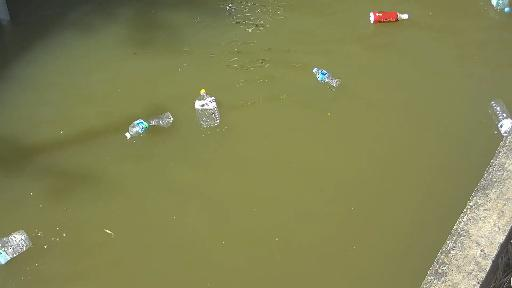plastic: (358, 0, 446, 36), (465, 82, 512, 147), (113, 109, 189, 142), (301, 58, 355, 91), (195, 77, 221, 139), (476, 0, 512, 21), (0, 232, 22, 258)
